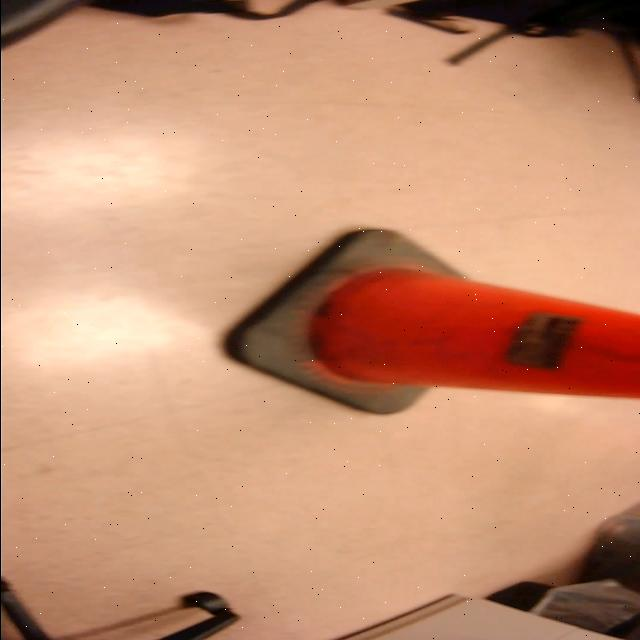traffic cone: (216, 223, 640, 421)
